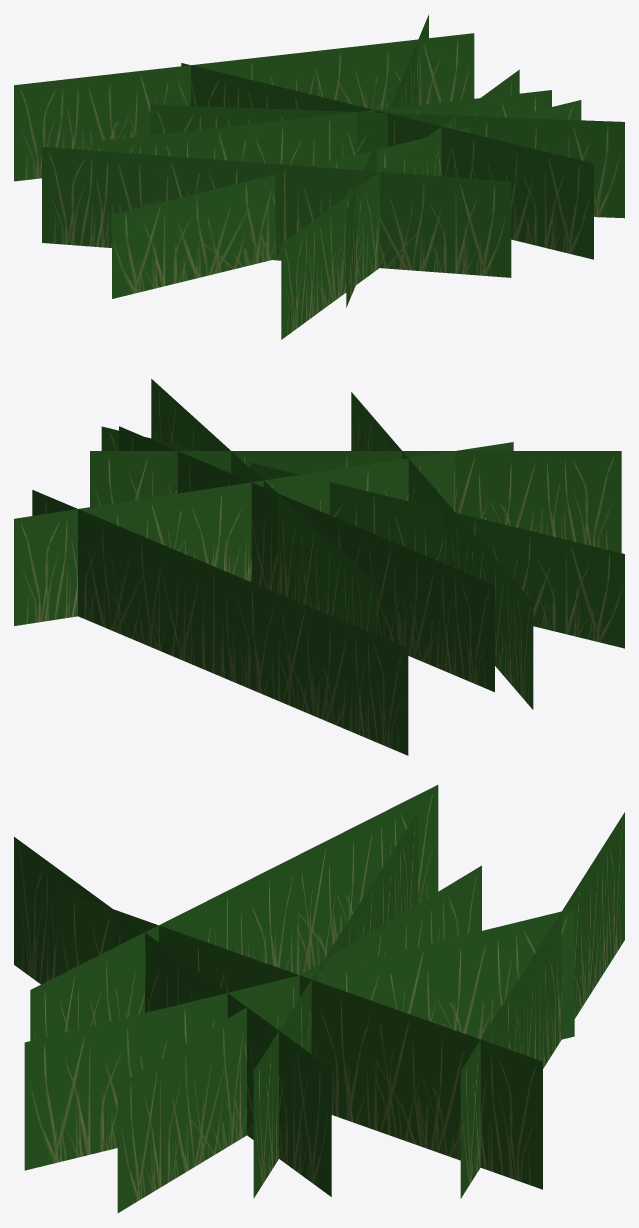
The model's file is grass1.FBX.
3 views of the same model, one above another, from view 1: azimuth 30°, elevation 25°; view 2: azimuth 150°, elevation 25°; view 3: azimuth 270°, elevation 25° (orthographic). The views are drawn at different scales.
Parts seen in each view (by area): view 1: grass1; view 2: grass1; view 3: grass1.
Boxes of the visible parts, <box> form: grass1: <box>14,14,624,339</box>; grass1: <box>14,379,624,755</box>; grass1: <box>14,785,624,1212</box>.
Size of the model in its own units: 4.06 by 0.795 by 3.43.
